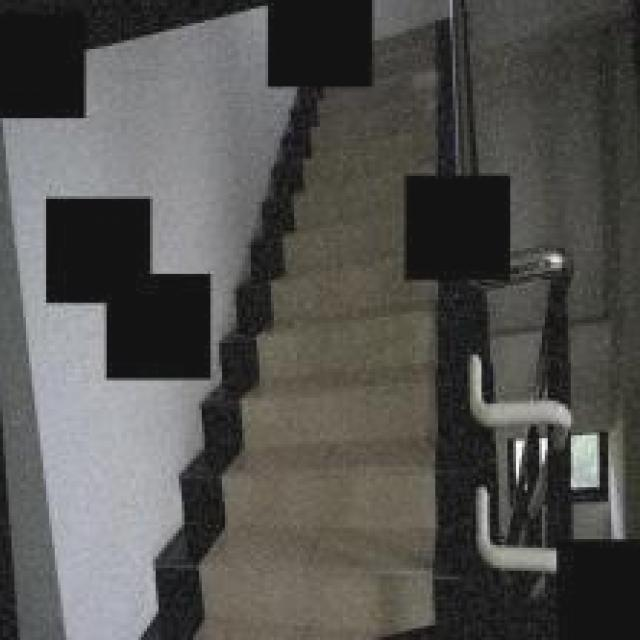upstair: (220, 298, 468, 638), (269, 114, 399, 267)
